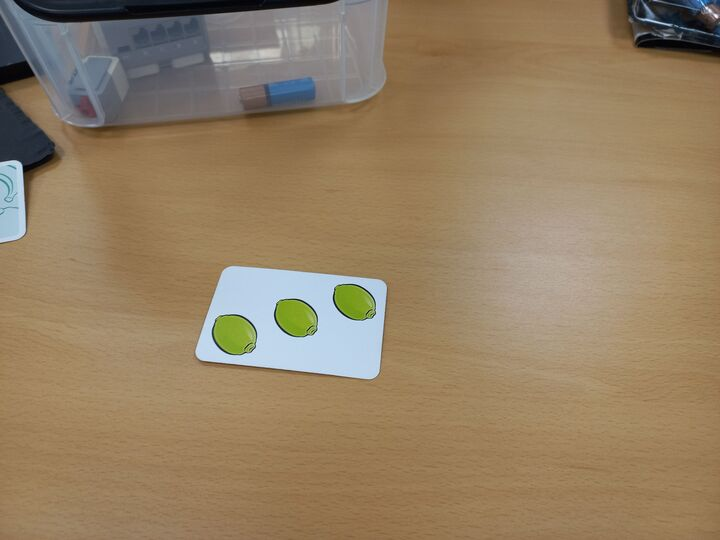lime3: (194, 263, 387, 383)
